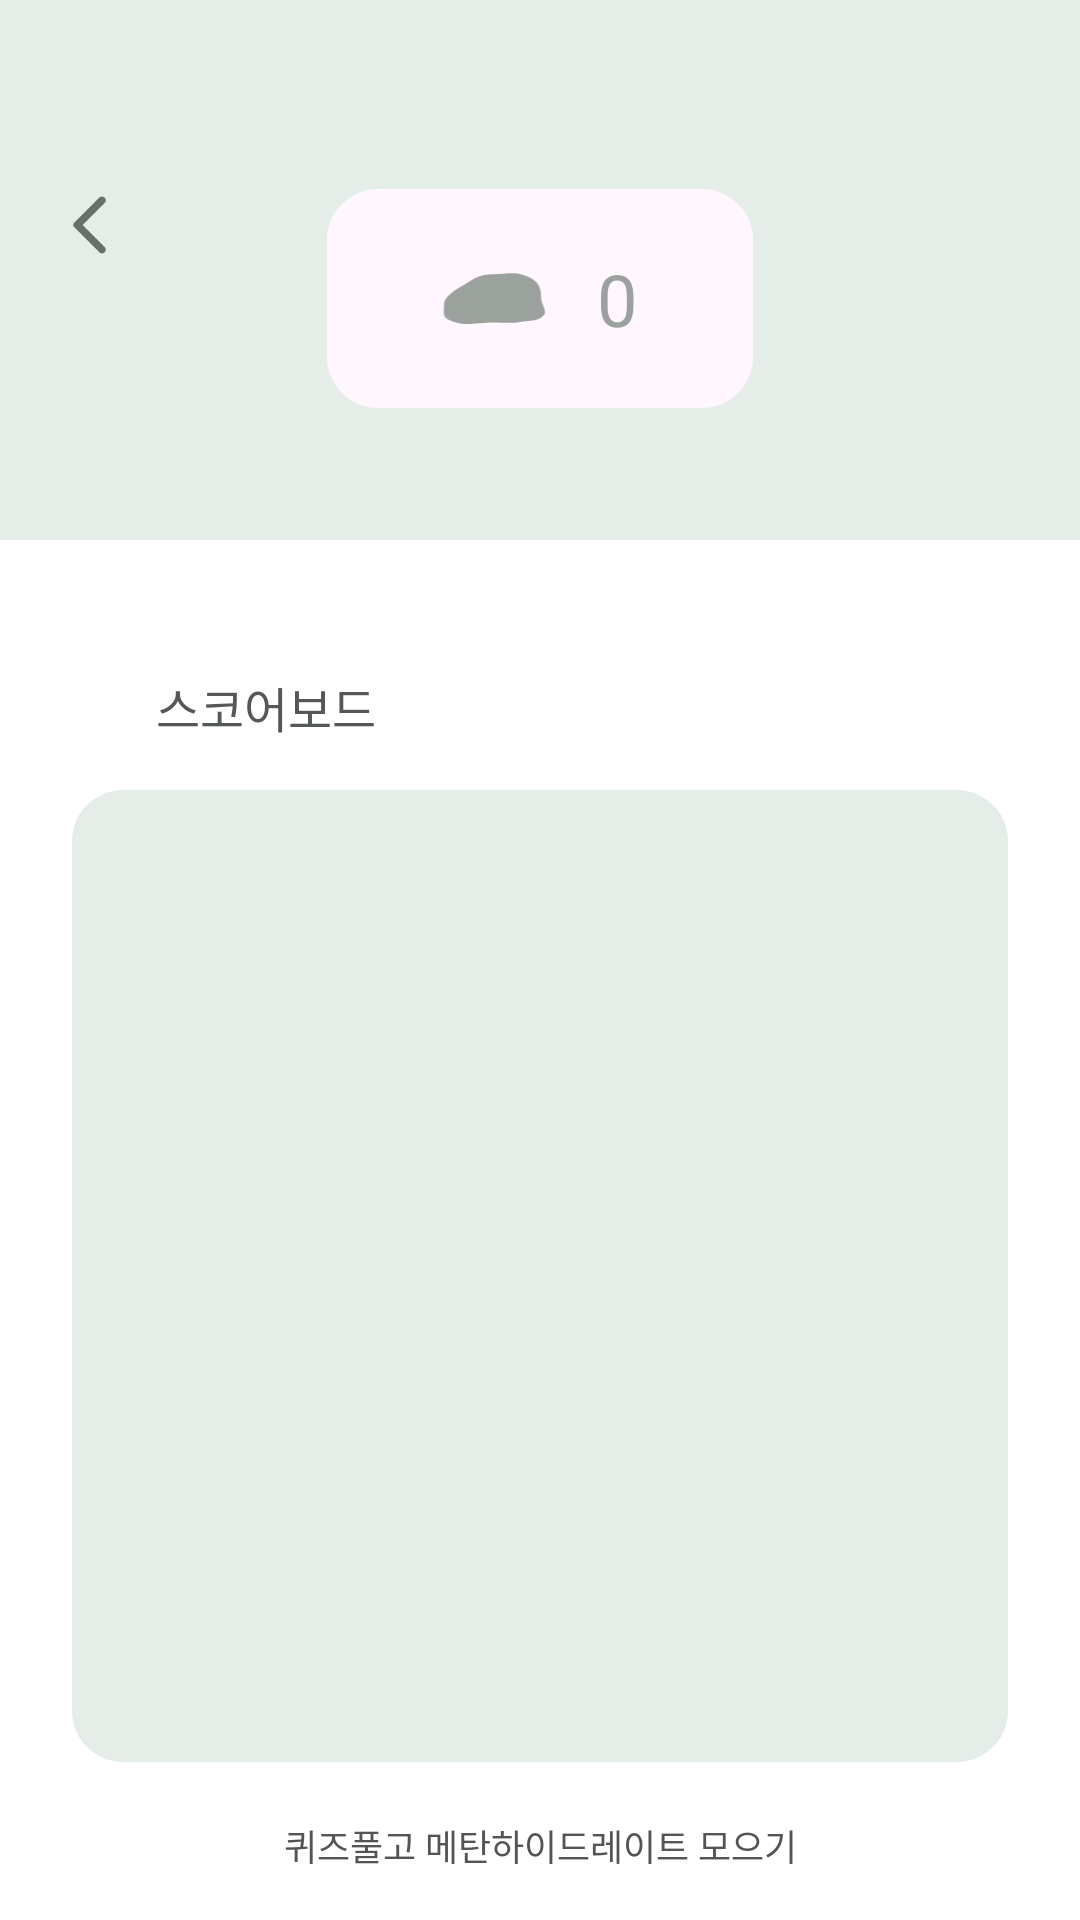

Where icons sit on this 1080*1920 app screen, as (x1, y1, x2, y2):
arrow back: (73, 196, 106, 254)
